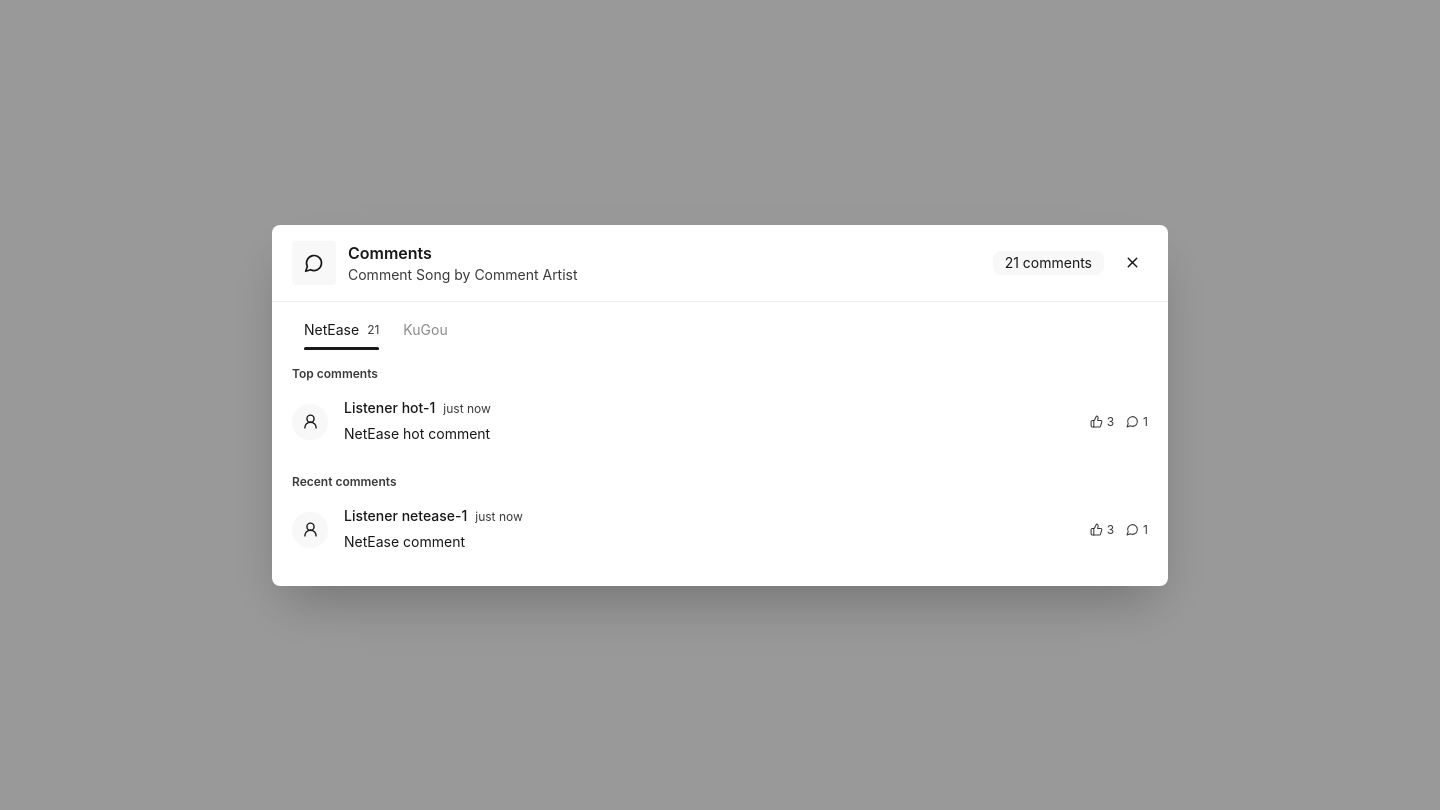
Test: OnlineCommentsDialog › keeps loaded comments visible when the next page fails
The image size is (1440, 810).
Click the tab "KuGou" at coordinates (425, 330), box [391, 310, 460, 350]
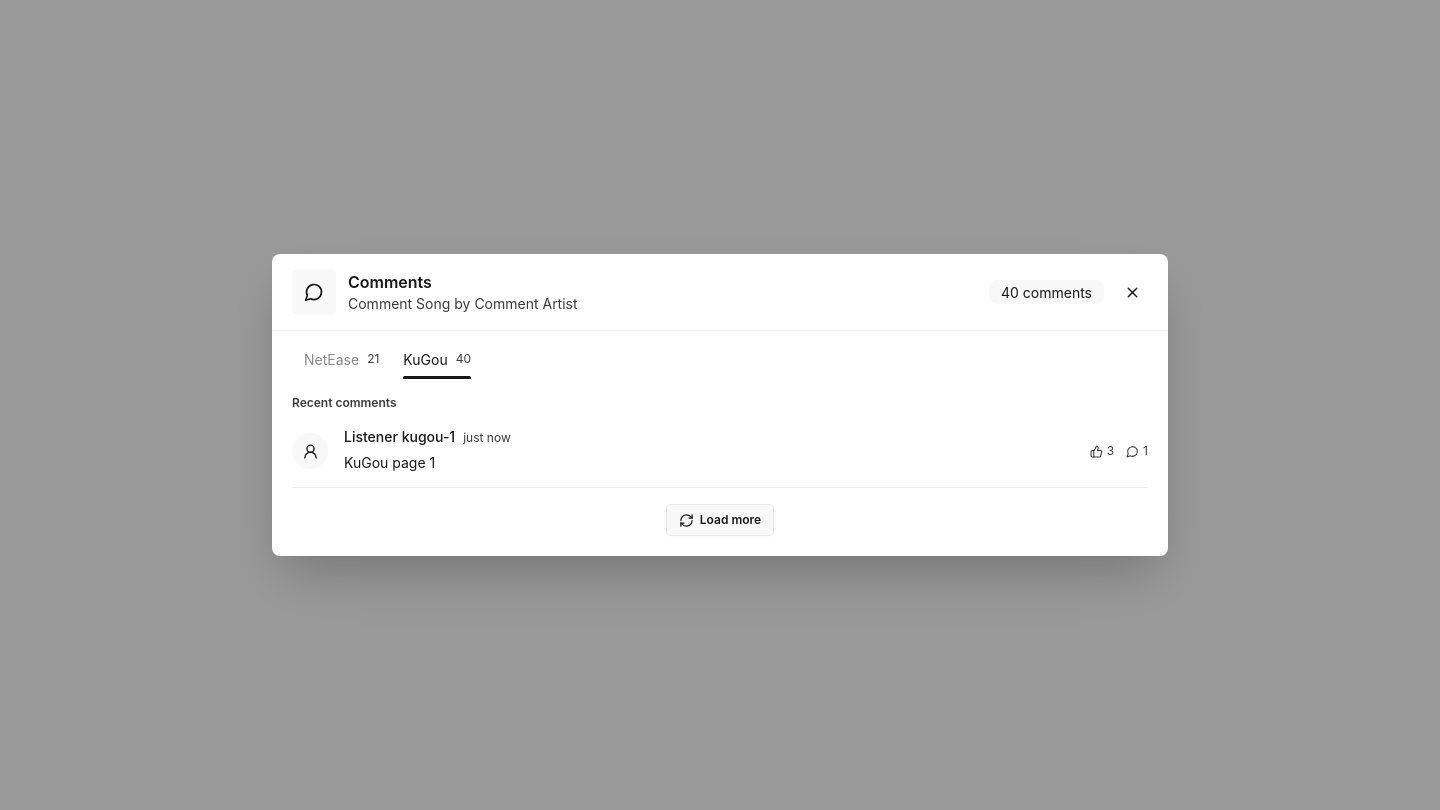
Click the button "Load more" at coordinates (720, 520), box [666, 504, 774, 536]
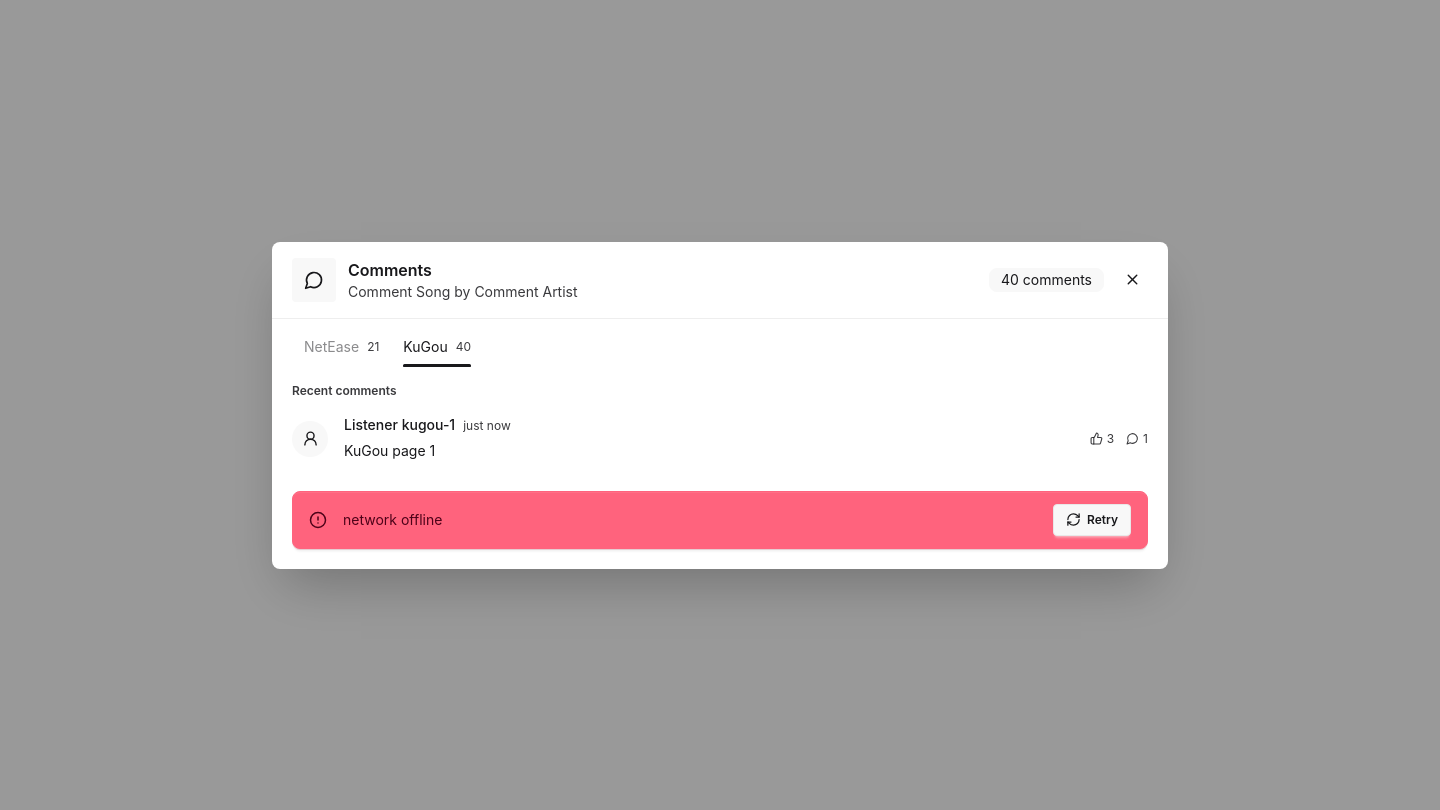
Check: the text "KuGou page 1" is shown, box [344, 442, 435, 458]
Check: the text "network offline" is shown, box [343, 510, 442, 530]
